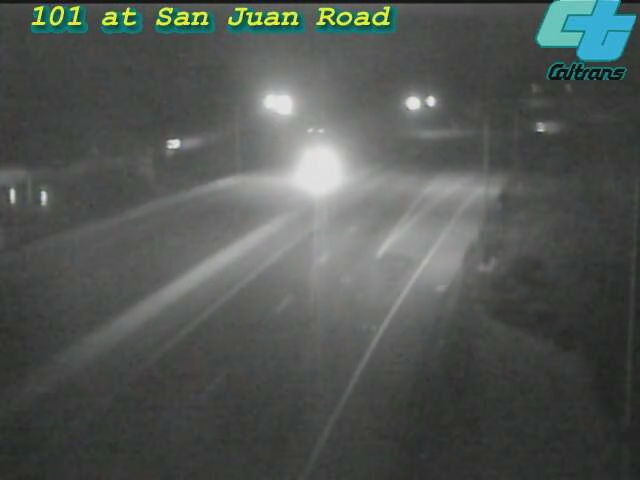vehicle: (279, 130, 359, 210)
